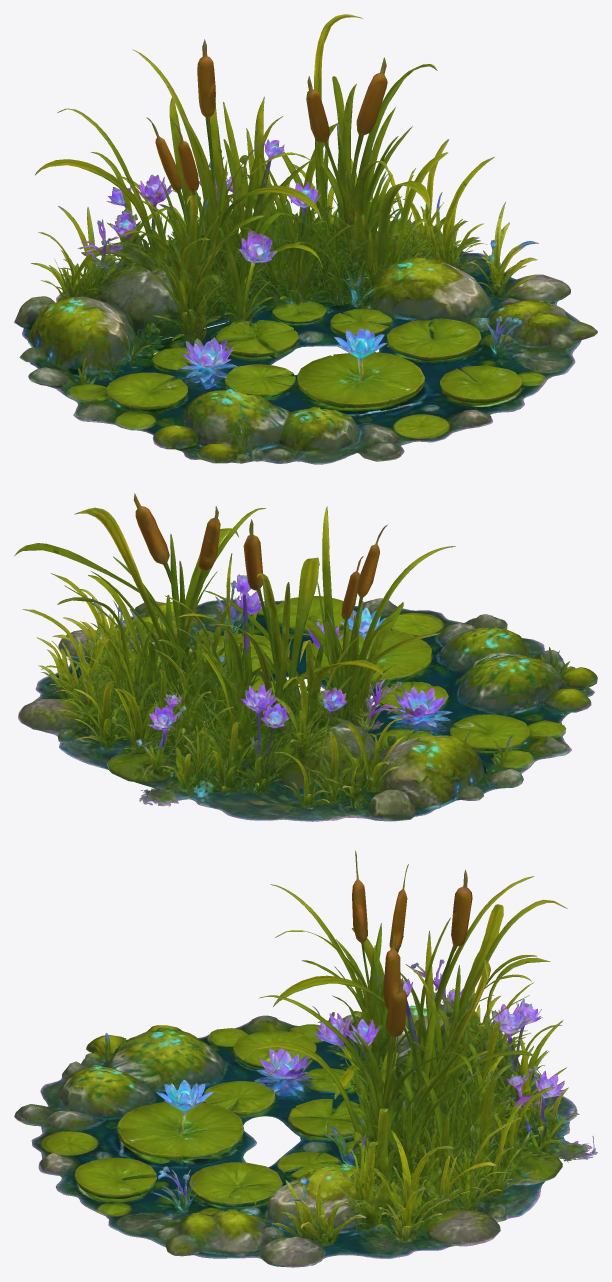
Rendered from reed-lily-pad-garden.glb.
3 views of the same model, one above another, from view 1: azimuth 30°, elevation 25°; view 2: azimuth 150°, elevation 25°; view 3: azimuth 270°, elevation 25° (orthographic). The views are drawn at different scales.
Size of the model in its own units: 1.9 by 0.9217 by 1.85.
1 material, 1 textured.
